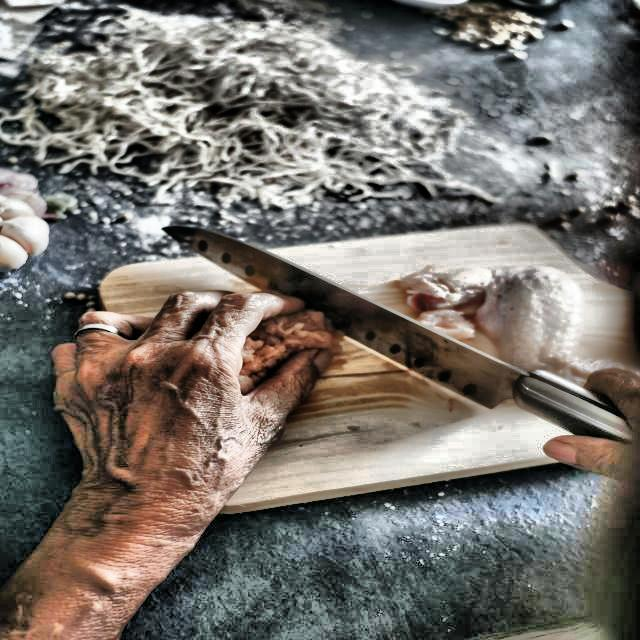knife: (157, 219, 640, 446)
